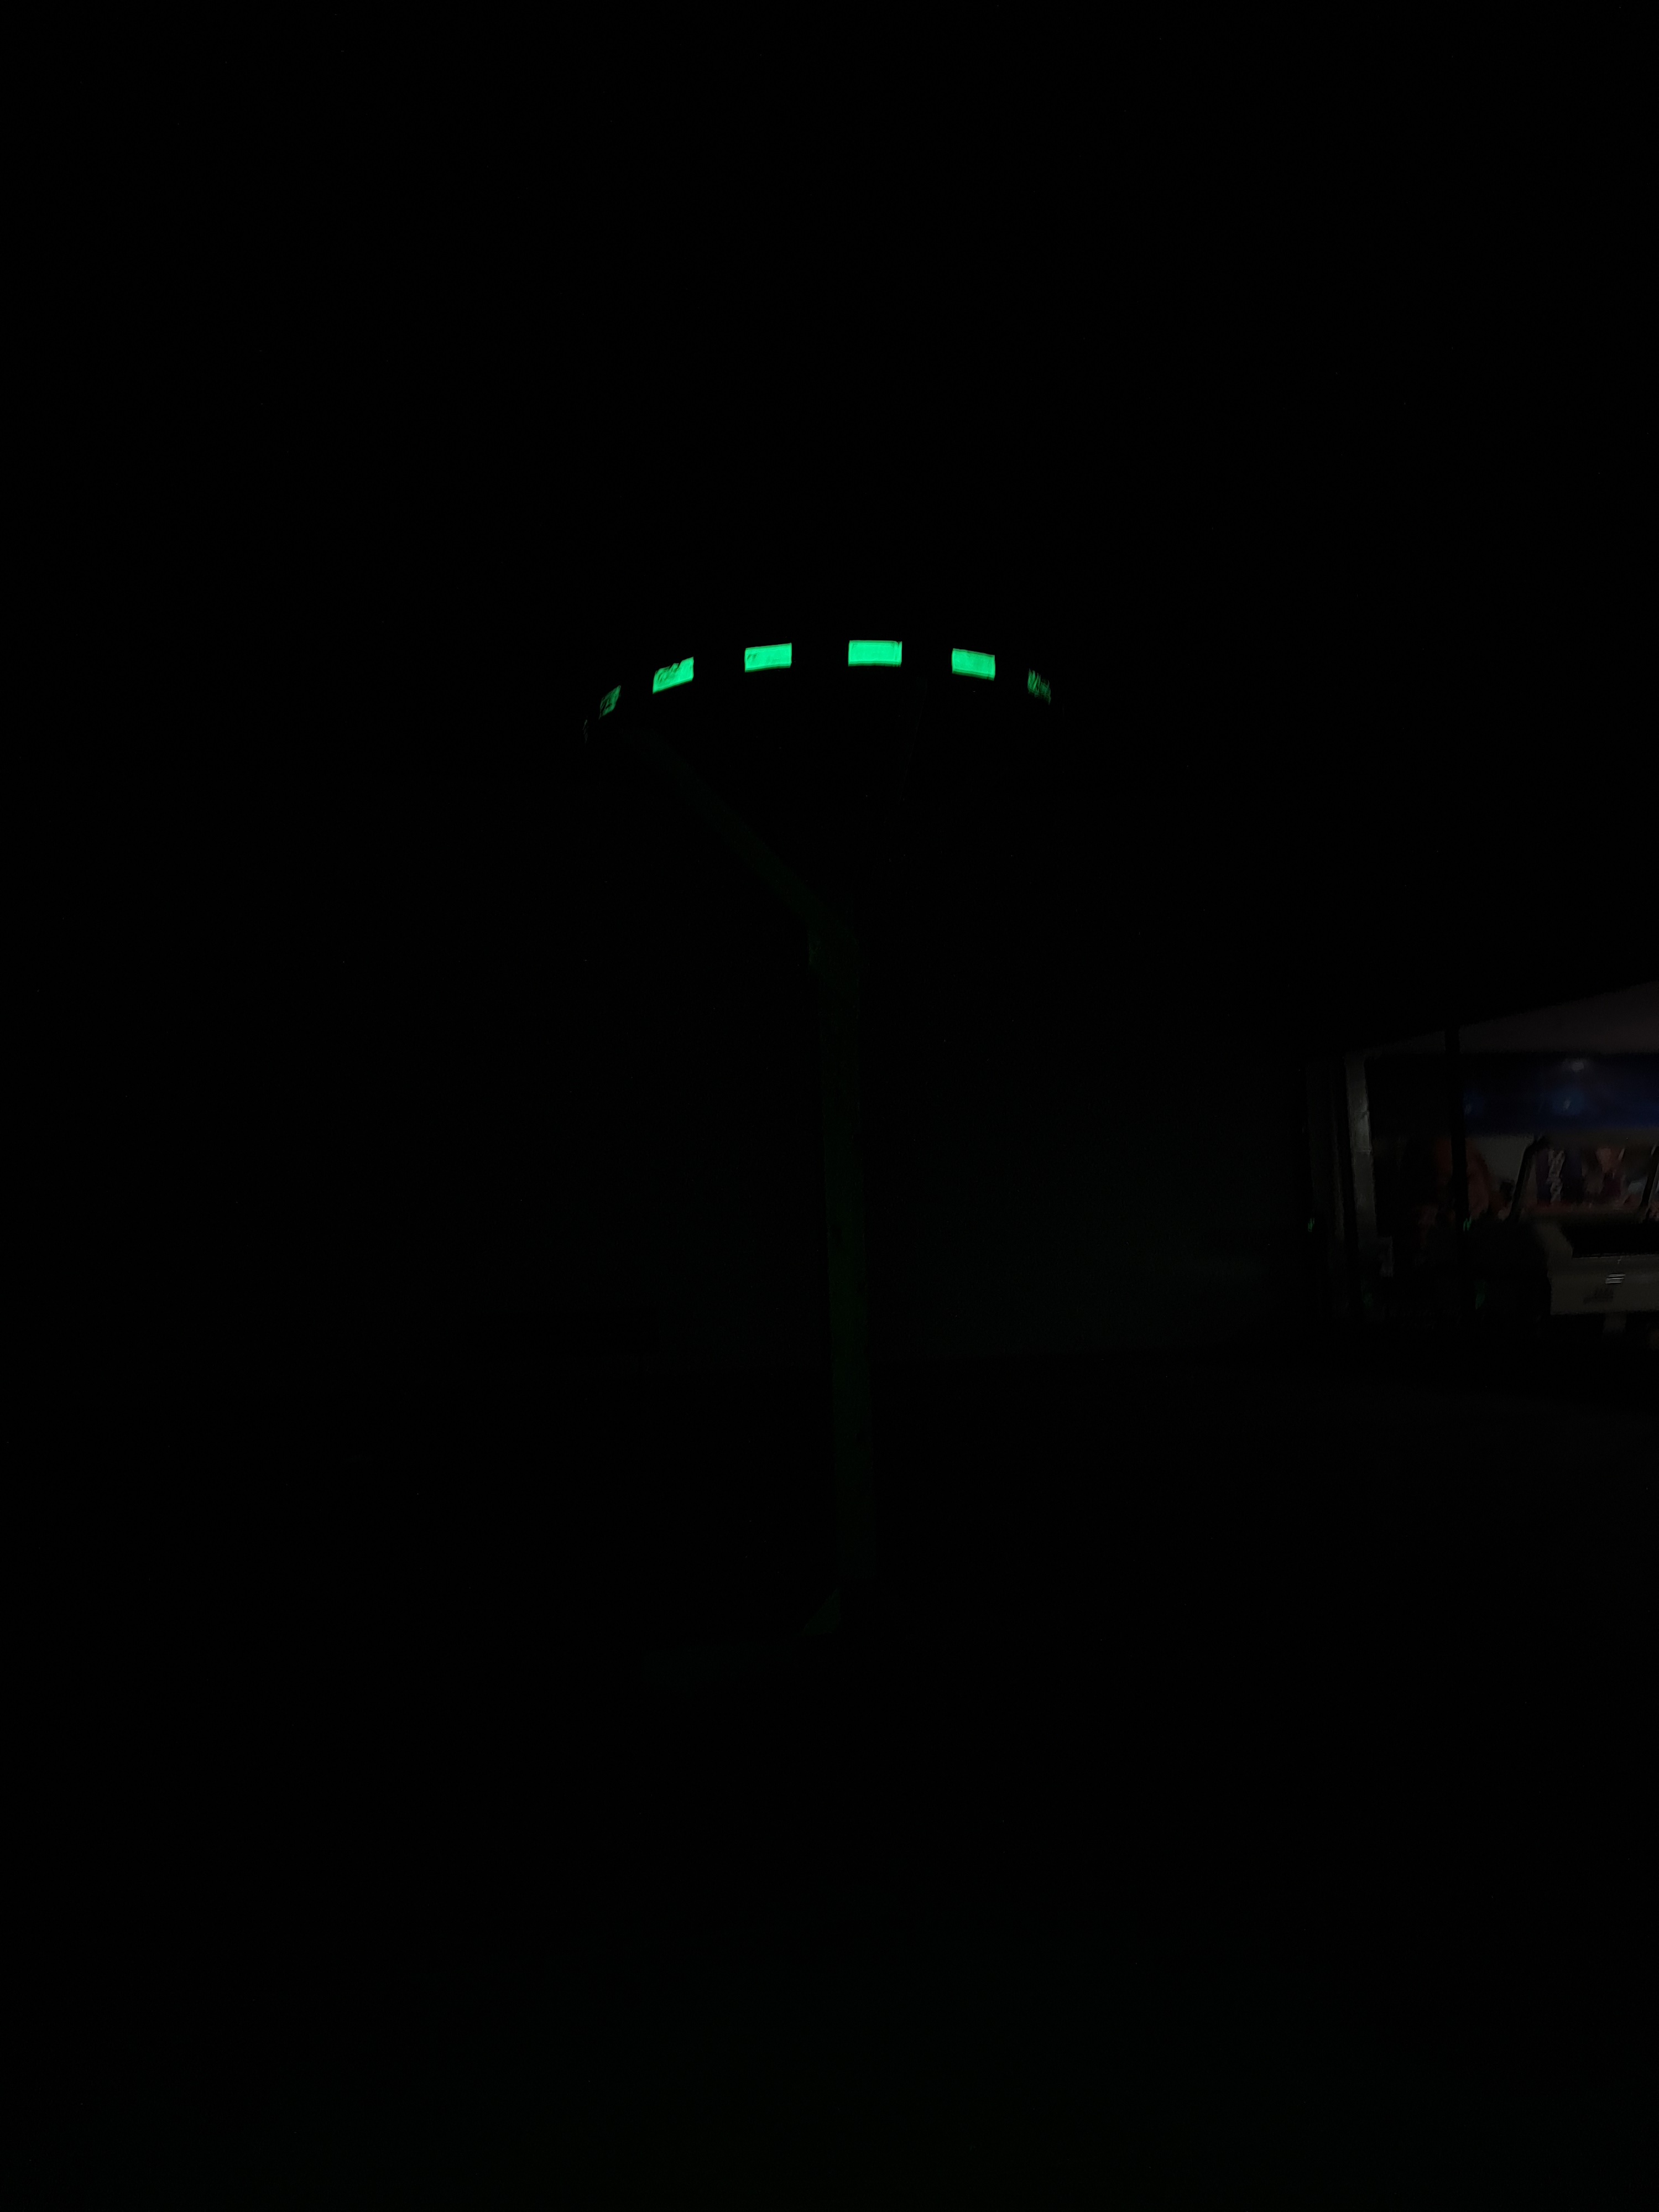hoop: (558, 603, 1060, 721)
